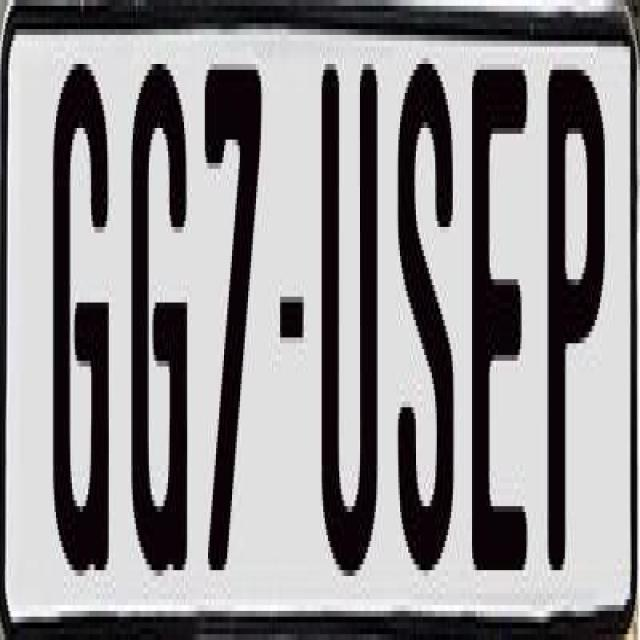7: (202, 64, 268, 570)
E: (467, 58, 525, 558)
G: (50, 58, 109, 605), (130, 64, 192, 582)
P: (543, 58, 602, 594)
S: (398, 52, 460, 588)
U: (320, 47, 378, 571)
